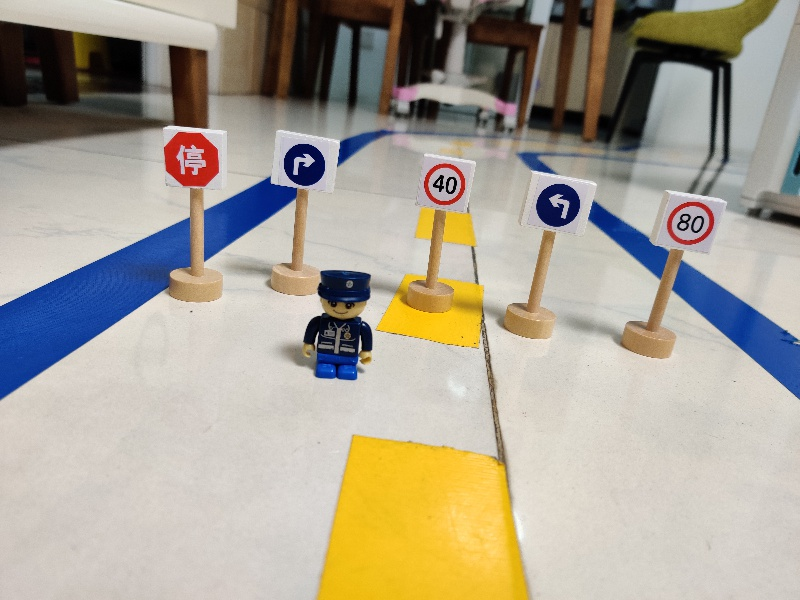limit_40: (411, 155, 477, 213)
limit_80: (649, 188, 728, 256)
person: (300, 266, 381, 382)
stop: (158, 124, 230, 190)
turn_left: (517, 169, 599, 237)
turn_right: (266, 127, 343, 193)
